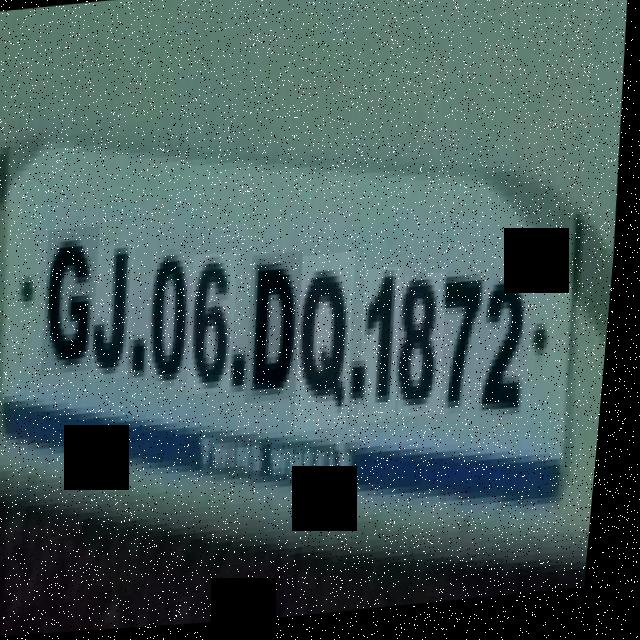0: (147, 253, 202, 396)
1: (360, 272, 413, 429)
6: (188, 254, 247, 398)
7: (439, 269, 497, 422)
8: (400, 278, 457, 423)
D: (247, 255, 312, 408)
G: (42, 226, 109, 376)
J: (90, 246, 146, 383)
Q: (296, 256, 366, 437)
